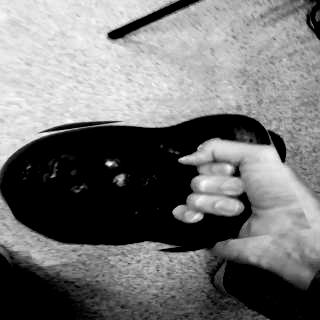kettlebell: (1, 111, 301, 260)
